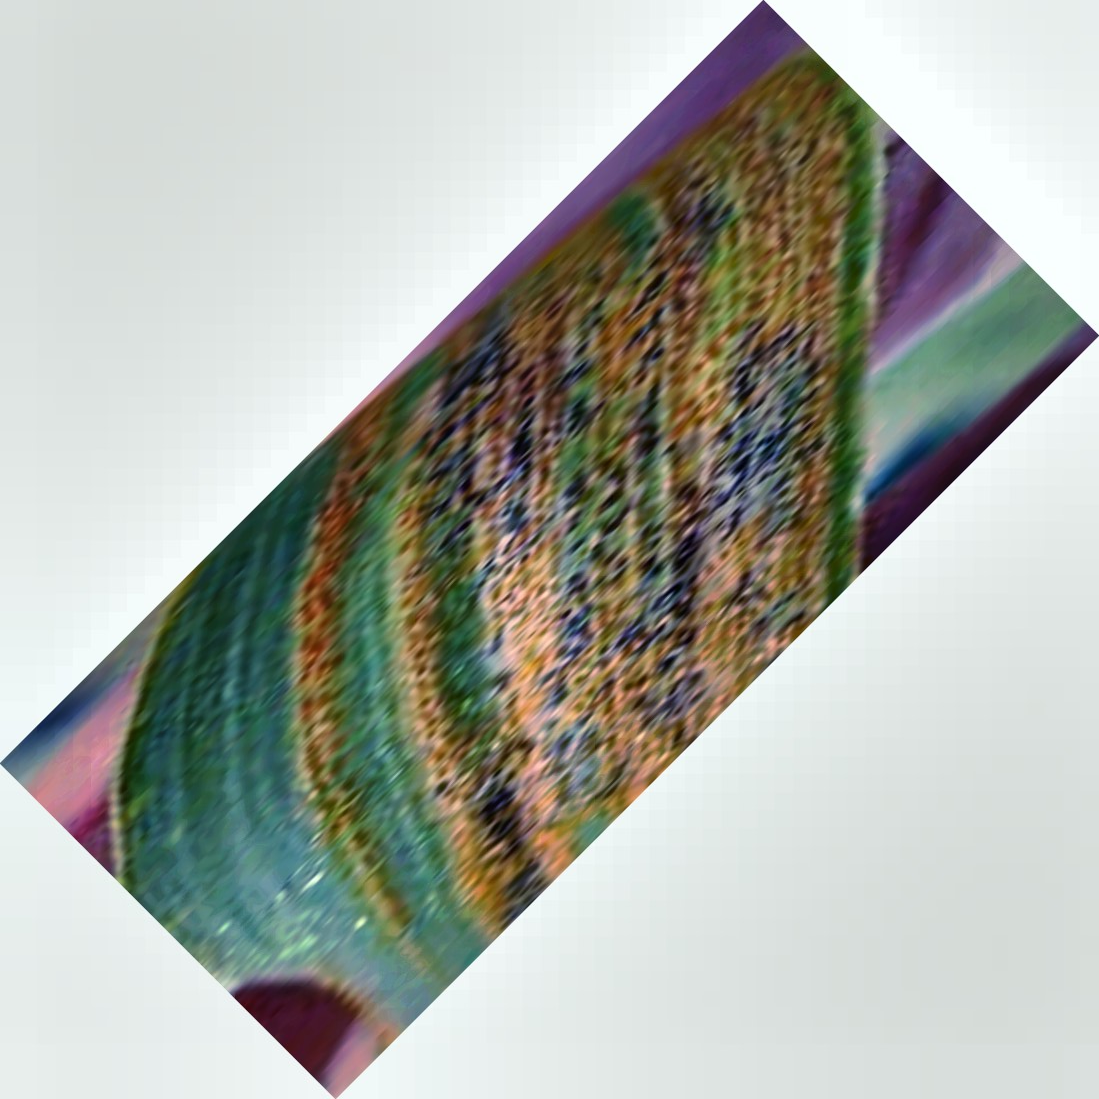Leaf Rust: (292, 374, 708, 839)
